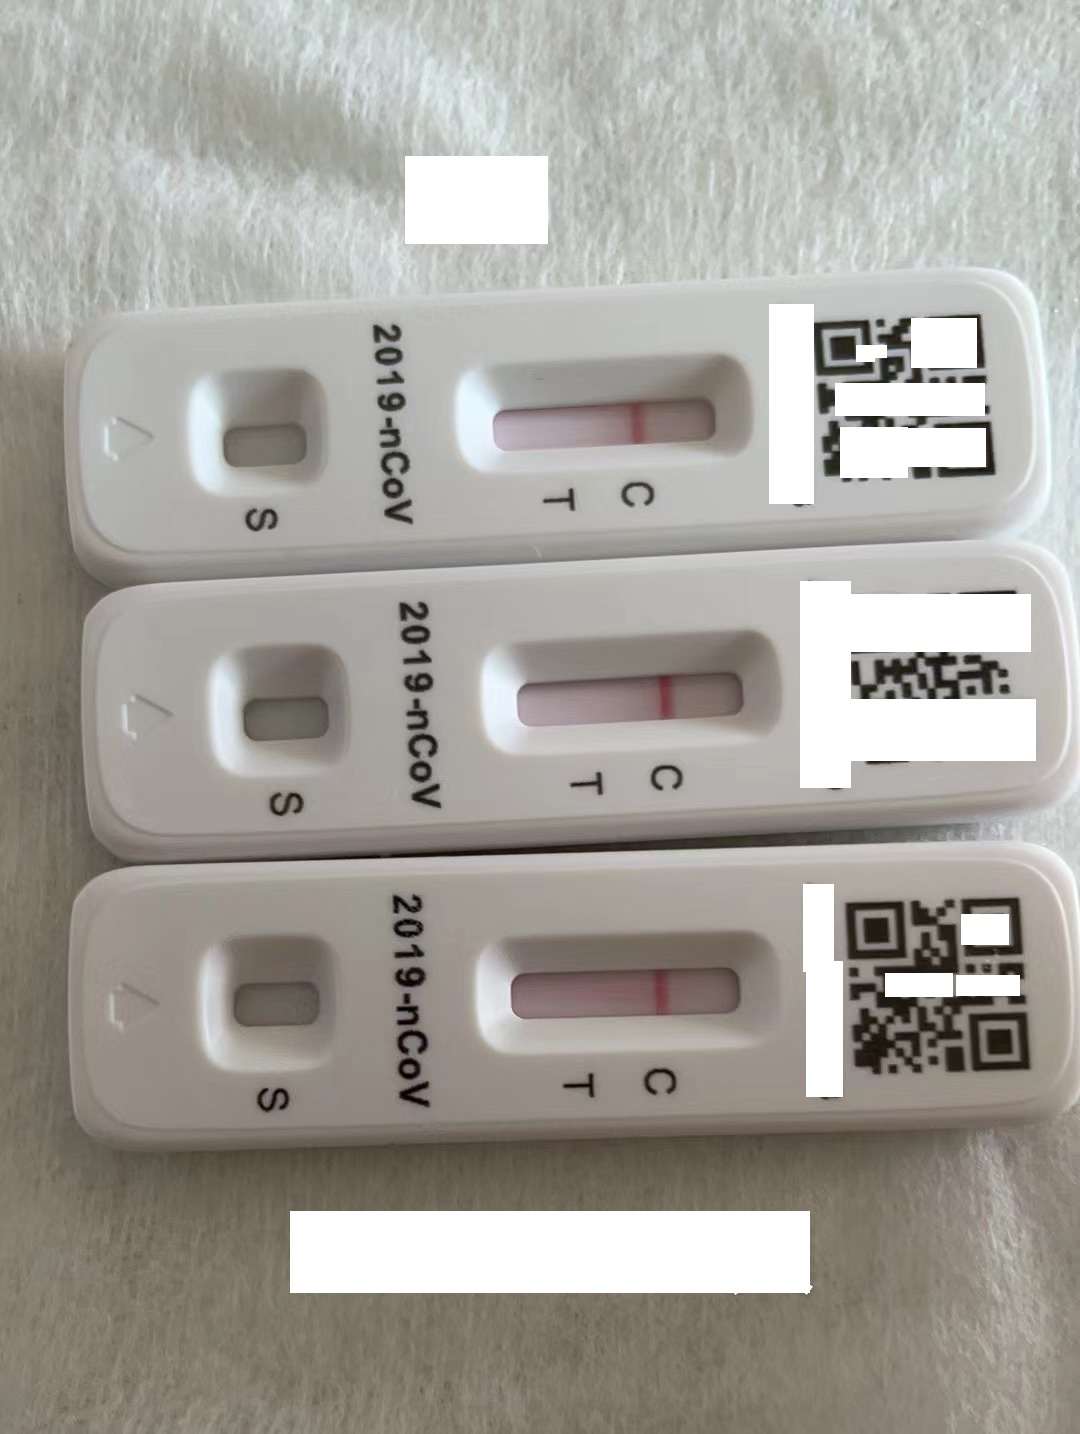negative: (483, 636, 778, 752), (475, 937, 774, 1051), (464, 358, 744, 467)
